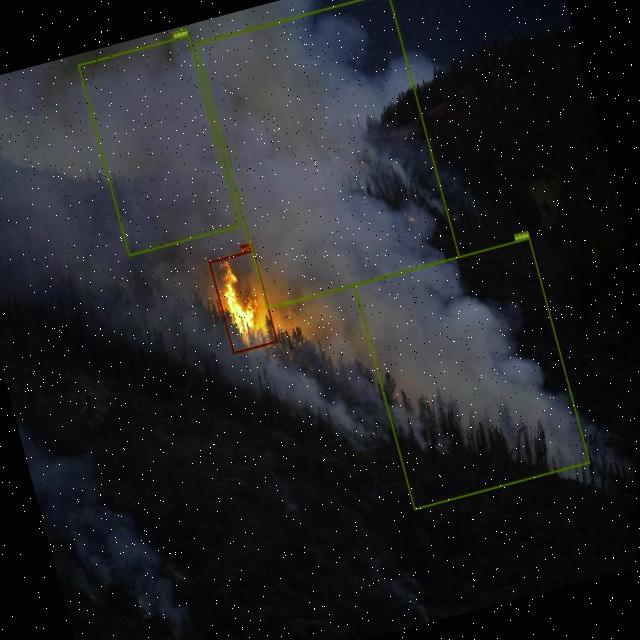fire: (209, 248, 278, 354)
smoke: (195, 0, 460, 308), (354, 236, 590, 509), (77, 34, 240, 256)
